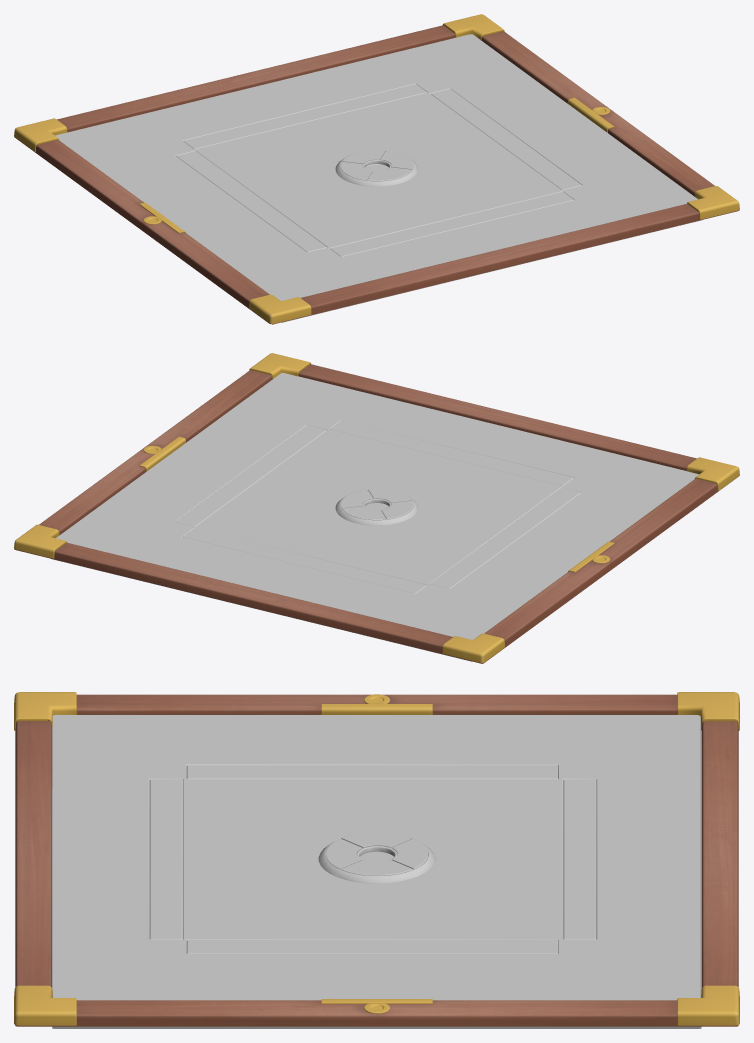
File: majiangzhuo.fbx
3 renders of one model, top to bottom at view 1: azimuth 30°, elevation 25°; view 2: azimuth 150°, elevation 25°; view 3: azimuth 270°, elevation 25°, orthographic. The views are drawn at different scales.
Parts seen in each view (by area): view 1: 对象001, Rectangle03, 对象005, mj_timer_01_east; view 2: 对象001, Rectangle03, 对象005, mj_timer_01_east; view 3: 对象001, Rectangle03, 对象005, mj_timer_01_east, mj_table_01.
Part boxes in pixels (x1,y1,x2,y2): 对象001: [55, 34, 697, 300]; Rectangle03: [14, 25, 739, 324]; 对象005: [14, 14, 739, 323]; mj_timer_01_east: [335, 150, 418, 186]; 对象001: [56, 373, 698, 639]; Rectangle03: [14, 364, 738, 663]; 对象005: [14, 353, 739, 662]; mj_timer_01_east: [335, 489, 418, 525]; 对象001: [52, 715, 701, 1000]; Rectangle03: [15, 694, 738, 1026]; 对象005: [14, 692, 739, 1025]; mj_timer_01_east: [318, 832, 435, 883]; mj_table_01: [52, 1026, 701, 1028].
Size of the model in its own units: 143 by 9.02 by 136.
